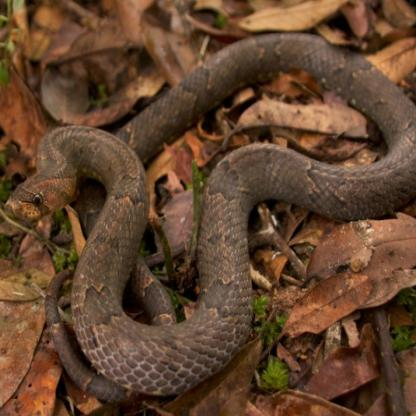Snake: (2, 31, 416, 398)
